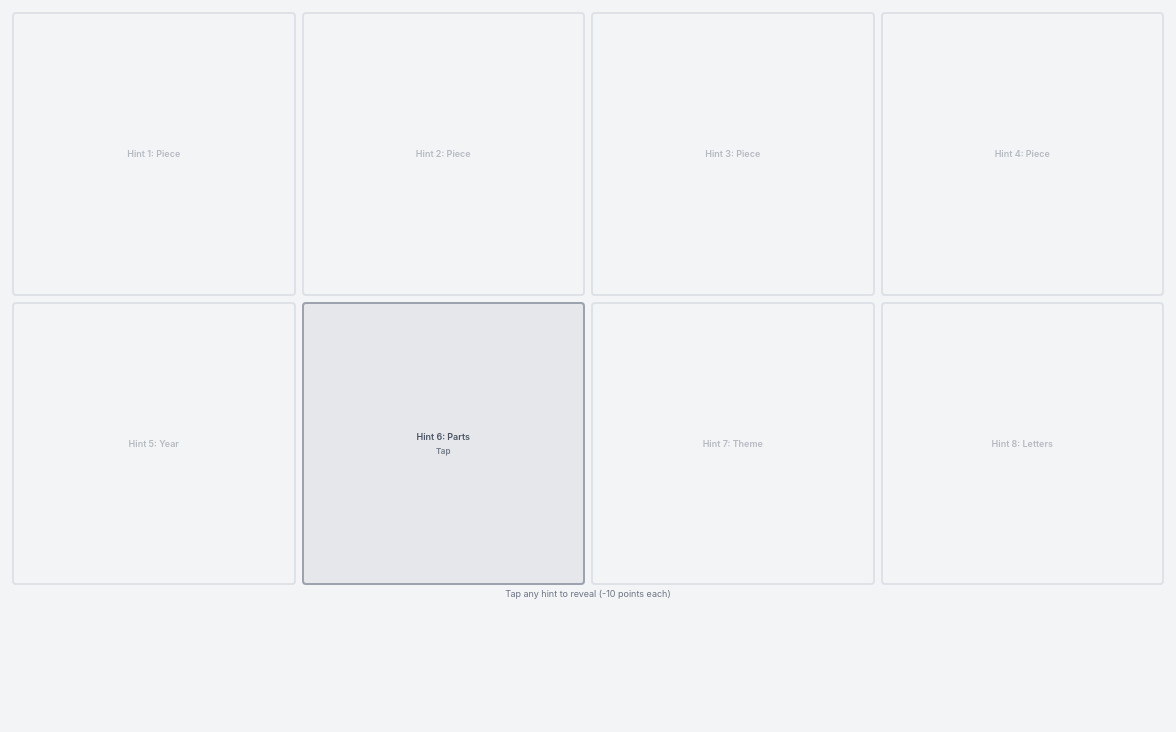
it: Hints › displays parts when hint 6 is revealed
Click hint 6 to reveal it
Click the button with aria-label "Hint 6: Parts: Click to reveal": (443,443) [302,302,585,585]
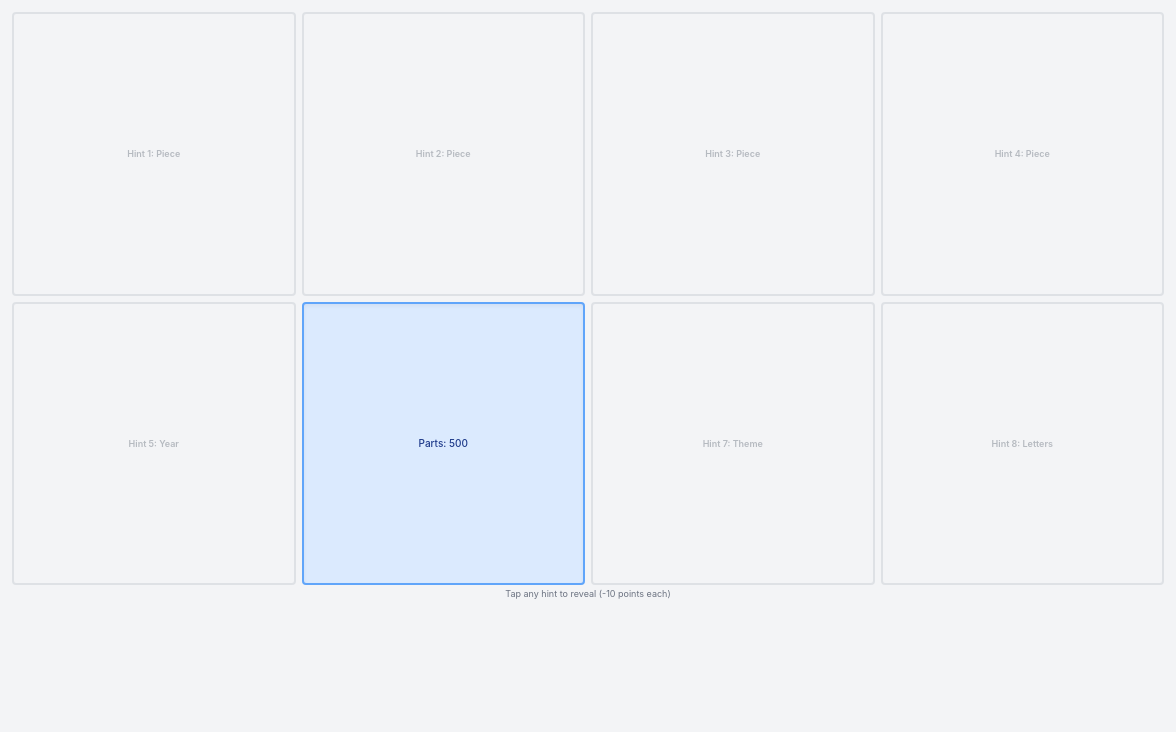
Check: the text "Parts: 500" is shown, box [418,437,468,450]
